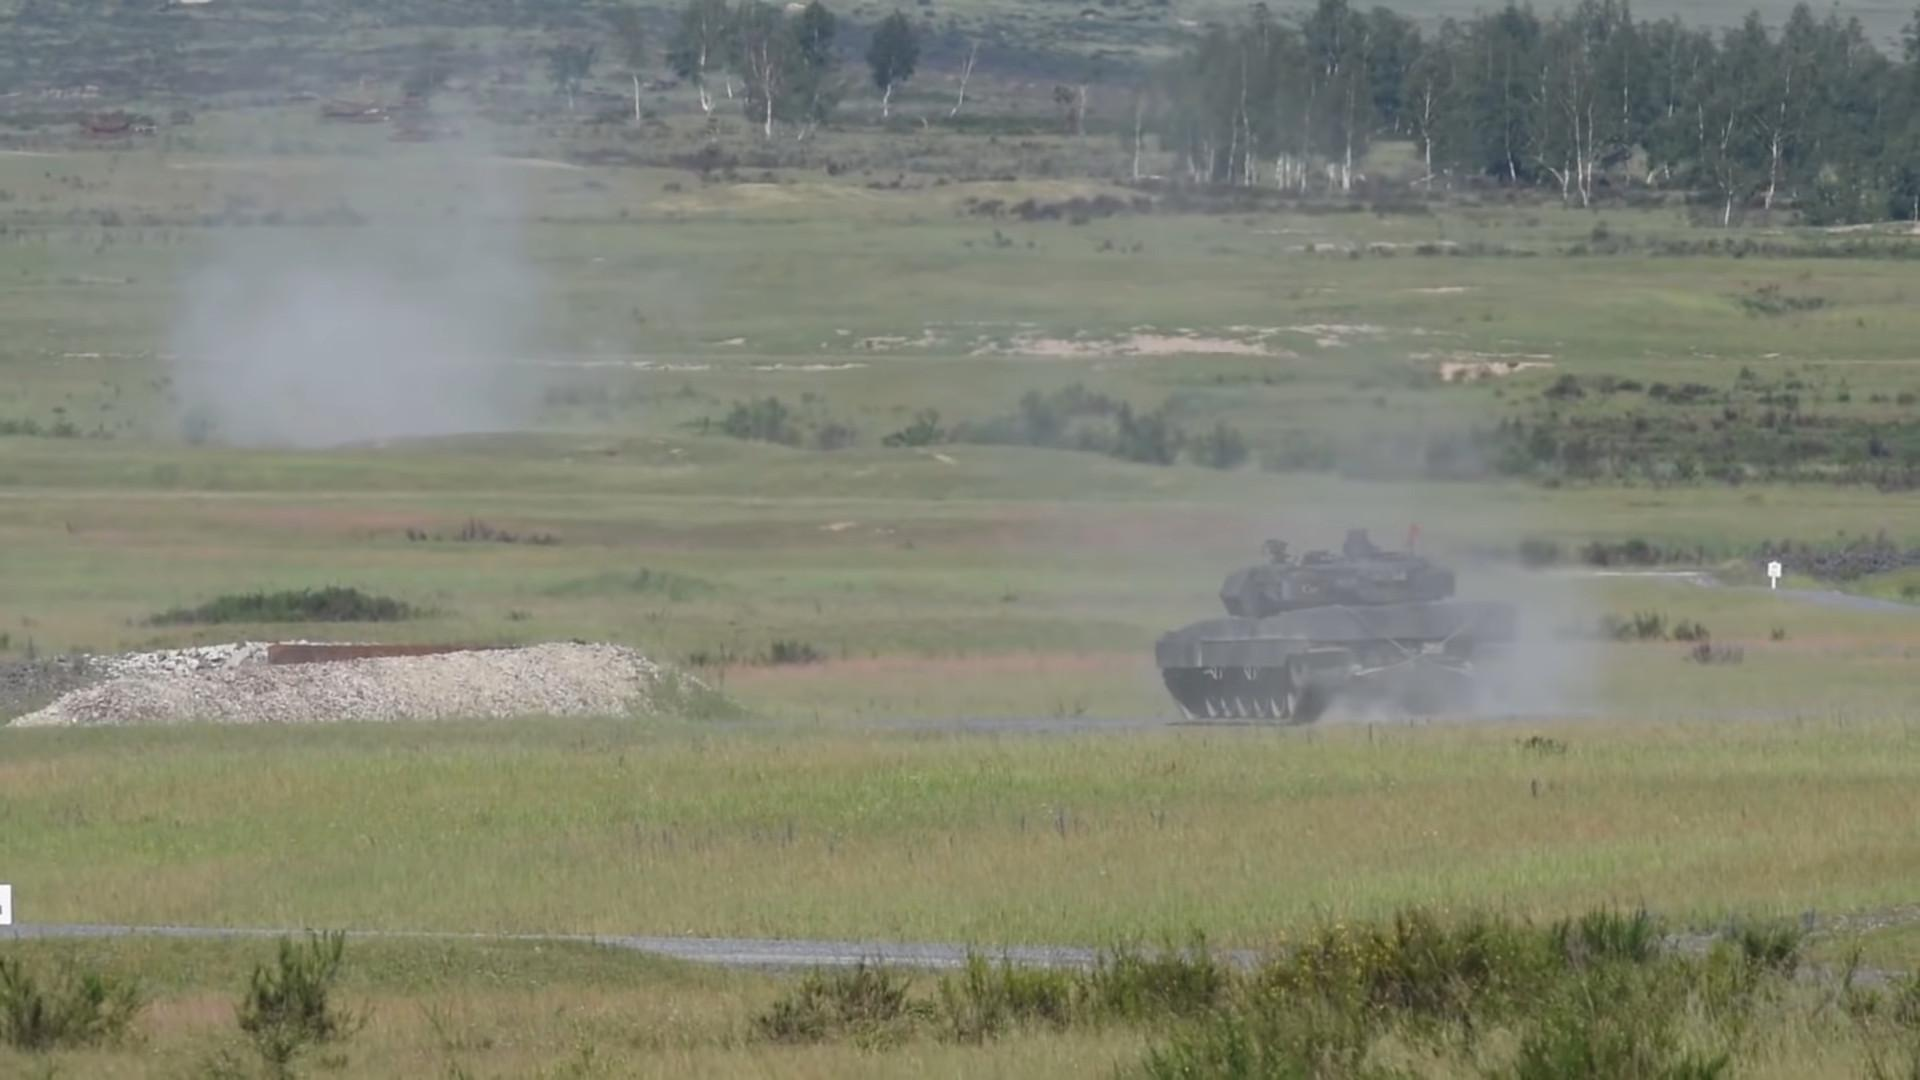tank: (1153, 555, 1519, 723)
